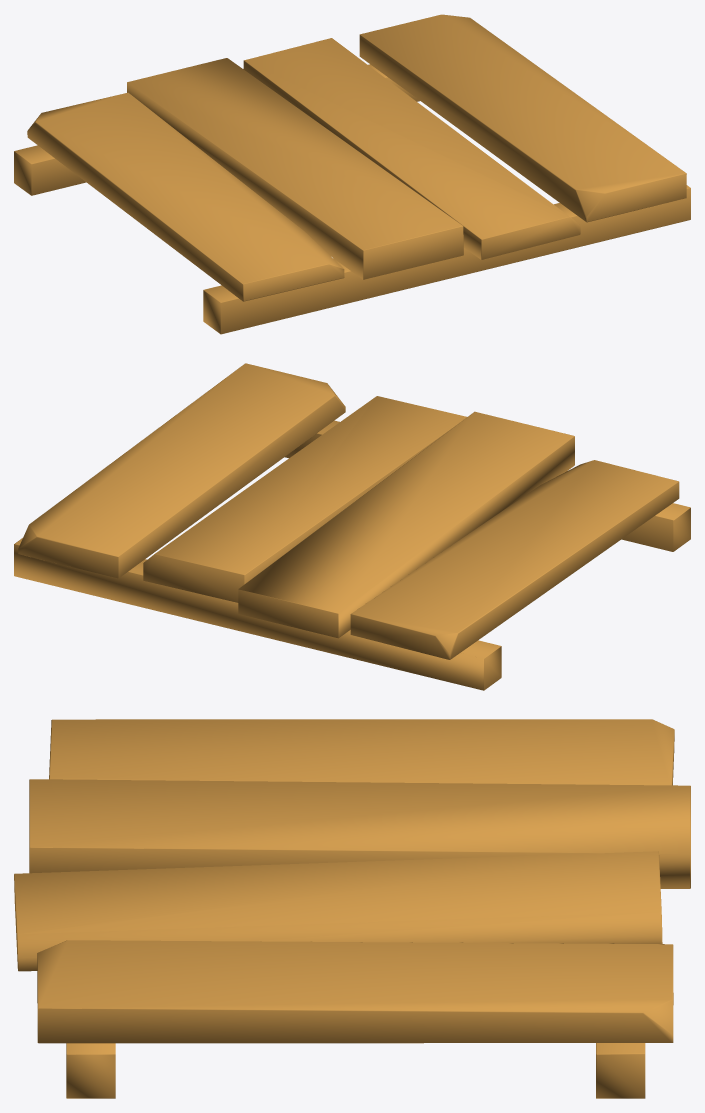
The model's file is Module_Wooden_Walkway_LOD01.fbx.
The picture shows the model from 3 angles, top to bottom: view 1: azimuth 30°, elevation 25°; view 2: azimuth 150°, elevation 25°; view 3: azimuth 270°, elevation 25°; orthographic projection. The views are drawn at different scales.
Visible parts, largest first — view 1: Module_Wooden_Walkway_LOD01_Geometry; view 2: Module_Wooden_Walkway_LOD01_Geometry; view 3: Module_Wooden_Walkway_LOD01_Geometry.
Boxes of the visible parts, bbox=[...] form: Module_Wooden_Walkway_LOD01_Geometry: bbox=[14, 14, 690, 334]; Module_Wooden_Walkway_LOD01_Geometry: bbox=[14, 363, 690, 690]; Module_Wooden_Walkway_LOD01_Geometry: bbox=[14, 719, 690, 1098].
Size of the model in its own units: 2.35 by 0.2986 by 2.09.
